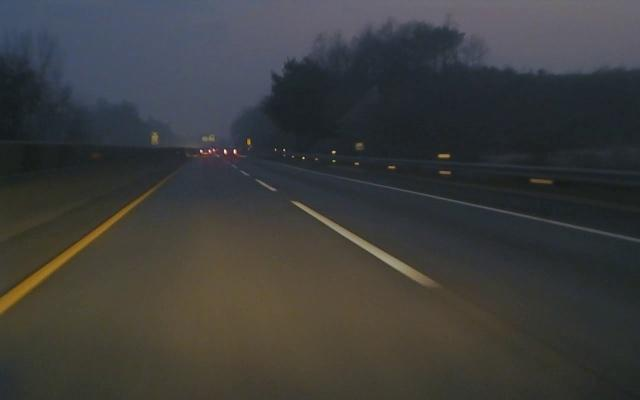lane: (249, 175, 443, 286), (3, 190, 151, 313), (415, 193, 638, 244)
